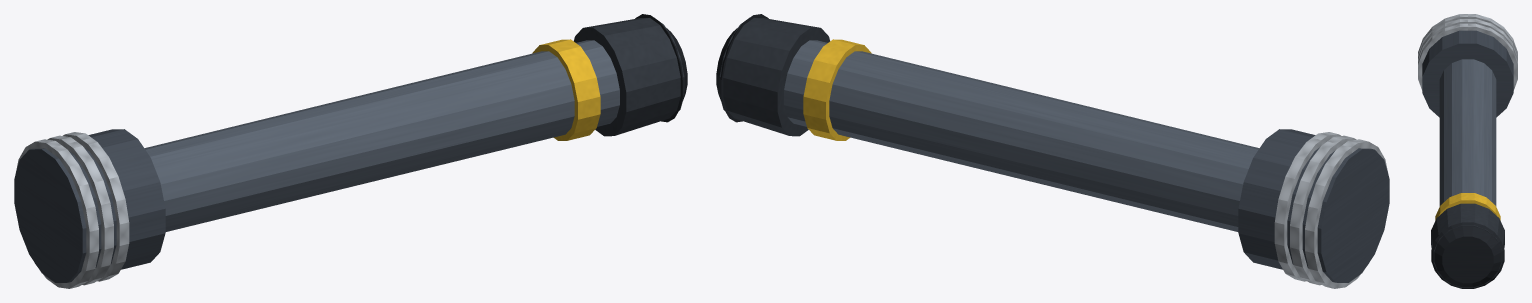
The model's file is barrel_stub_v2.glb.
3 views of the same model, side by side, from view 1: azimuth 30°, elevation 25°; view 2: azimuth 150°, elevation 25°; view 3: azimuth 270°, elevation 25° (orthographic). The views are drawn at different scales.
Visible parts, largest first — view 1: barrel_stub_mesh; view 2: barrel_stub_mesh; view 3: barrel_stub_mesh.
Boxes of the visible parts, x1,y1,x2,y2 form: barrel_stub_mesh: [14, 14, 687, 288]; barrel_stub_mesh: [716, 14, 1389, 288]; barrel_stub_mesh: [1418, 14, 1517, 288].
Bounding box in the file's own units: 0.1645 × 0.0344 × 0.0344.
6 materials, 6 textured.
